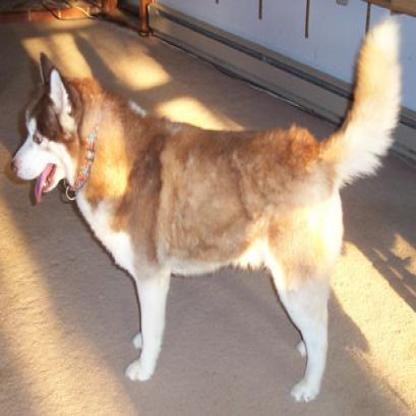Siberian_husky: (6, 16, 401, 403)
